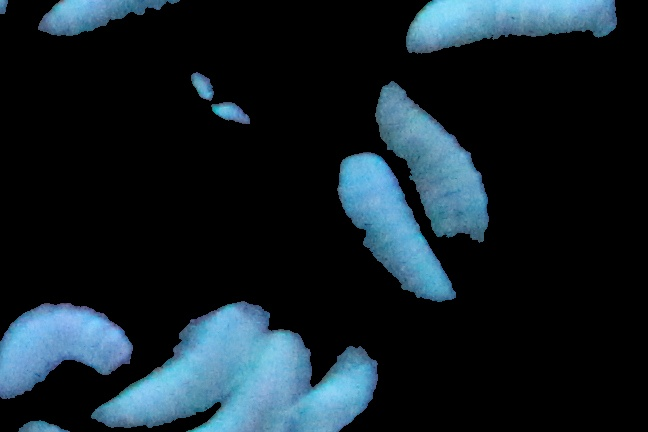larvae: (92, 304, 265, 430), (377, 78, 488, 243), (338, 150, 457, 303), (1, 303, 125, 401), (412, 1, 612, 61), (201, 328, 310, 432), (38, 1, 232, 39), (300, 343, 382, 432)
